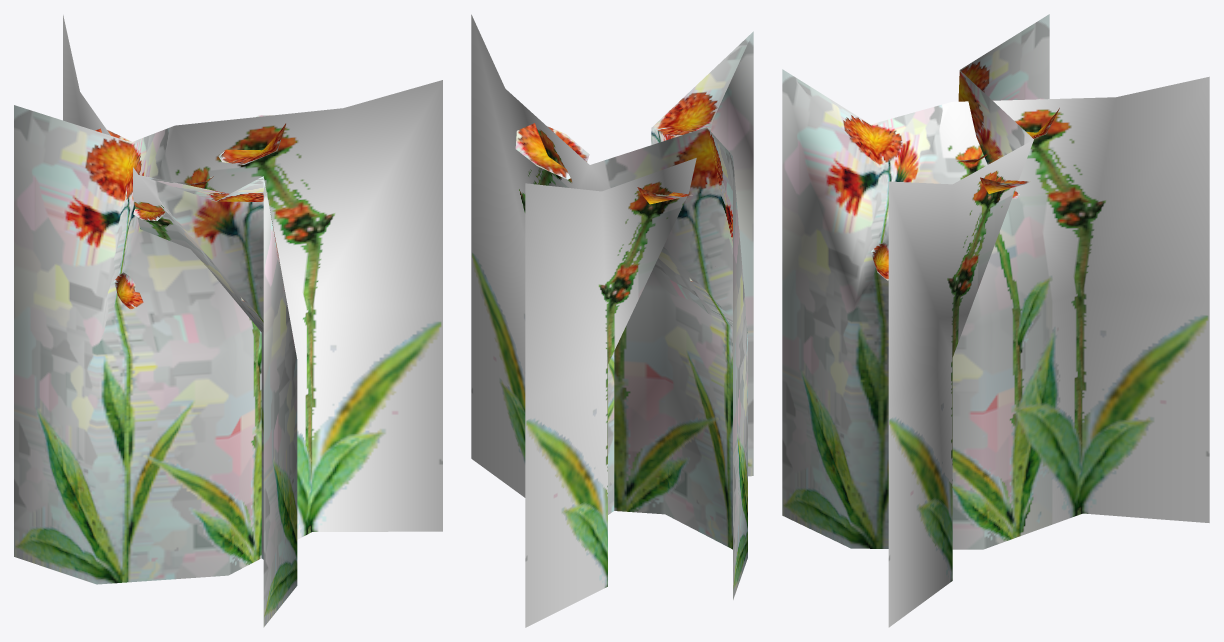
Rendered from Plant.gltf.
3 views of the same model, side by side, from view 1: azimuth 30°, elevation 25°; view 2: azimuth 150°, elevation 25°; view 3: azimuth 270°, elevation 25° (orthographic).
Parts seen in each view (by area): view 1: Plant; view 2: Plant; view 3: Plant.
Boxes of the visible parts, left/top/right/bottom form: Plant: left=14, top=15, right=442, bottom=627; Plant: left=471, top=14, right=753, bottom=627; Plant: left=782, top=14, right=1209, bottom=627.
Bounding box in the file's own units: 6.51 × 8.09 × 7.02.
Materials: 1 (1 with a texture image).
